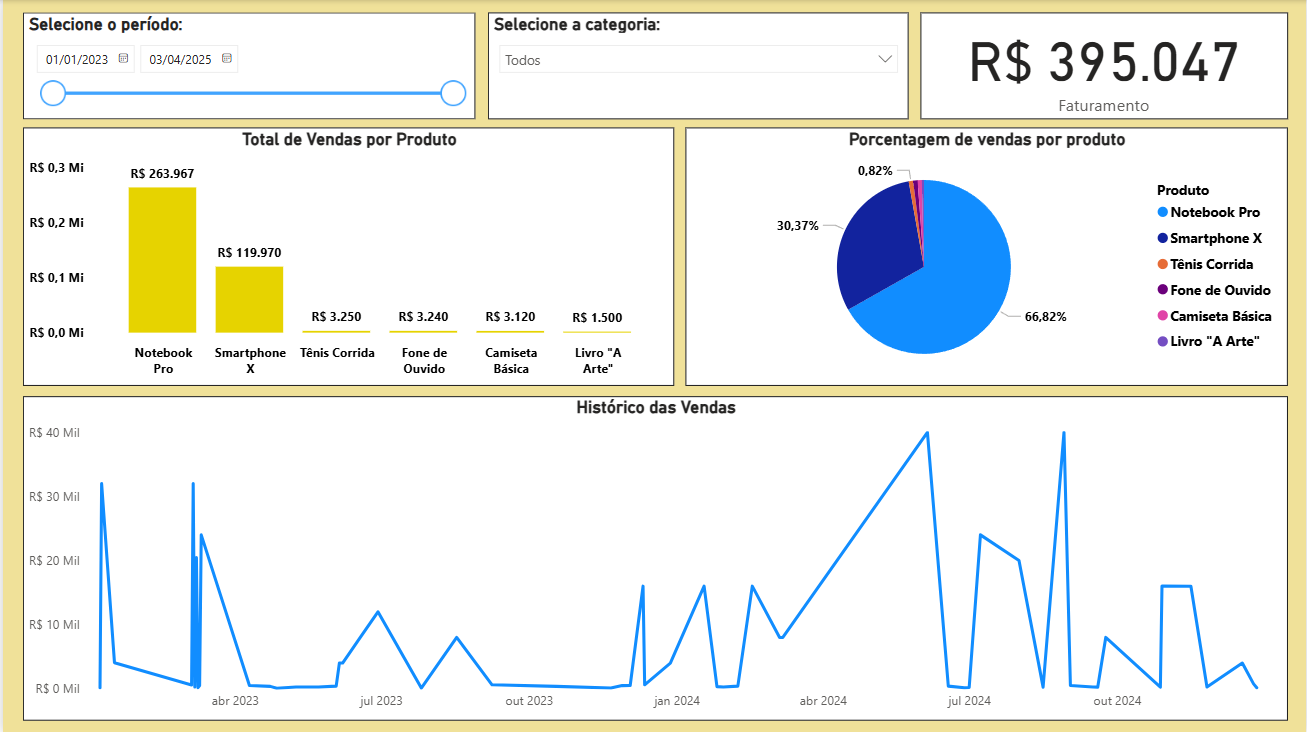

The page's visual inventory and layout, read from the dashboard file:
{"tool":"powerbi","page":{"name":"Página 1","canvas":[1280,720],"ordinal":0},"visuals":[{"type":"columnChart","title":"Total de Vendas por Produto","fields":{"Category":["Planilha1.Produto"],"Y":["Sum(Planilha1.Preço Total)"]},"box":[19.9,125.6,639.4,253.8],"z":0},{"type":"pieChart","title":"Porcentagem de vendas por produto","fields":{"Category":["Planilha1.Produto"],"Y":["Sum(Planilha1.Preço Total)"]},"box":[670.5,125.6,590.9,253.8],"z":1000},{"type":"lineChart","title":"Histórico das Vendas","fields":{"Category":["Planilha1.Data_Venda"],"Y":["Sum(Planilha1.Preço Total)"]},"box":[19.9,389.4,1241.5,318.5],"z":2000},{"type":"card","fields":{"Values":["Planilha1.Faturamento"]},"box":[900.6,12.4,360.7,104.5],"z":3000},{"type":"slicer","title":"Selecione o período:","fields":{"Values":["Calendário.Data"]},"box":[19.9,12.4,444.1,104.5],"z":4000},{"type":"slicer","title":"Selecione a categoria:","fields":{"Values":["Planilha1.Categoria"]},"box":[476.4,12.4,413,104.5],"z":5000}]}

Visuals, with their boxes in screenshot pixels (x1, y1, x2, y2), scaled from the page's 1280x720 canvas onto the 1307x732 screenshot:
"Total de Vendas por Produto" columnChart: {"left": 20, "top": 128, "right": 673, "bottom": 386}
"Porcentagem de vendas por produto" pieChart: {"left": 685, "top": 128, "right": 1288, "bottom": 386}
"Histórico das Vendas" lineChart: {"left": 20, "top": 396, "right": 1288, "bottom": 720}
card - Planilha1.Faturamento: {"left": 920, "top": 13, "right": 1288, "bottom": 119}
"Selecione o período:" slicer: {"left": 20, "top": 13, "right": 474, "bottom": 119}
"Selecione a categoria:" slicer: {"left": 486, "top": 13, "right": 908, "bottom": 119}
